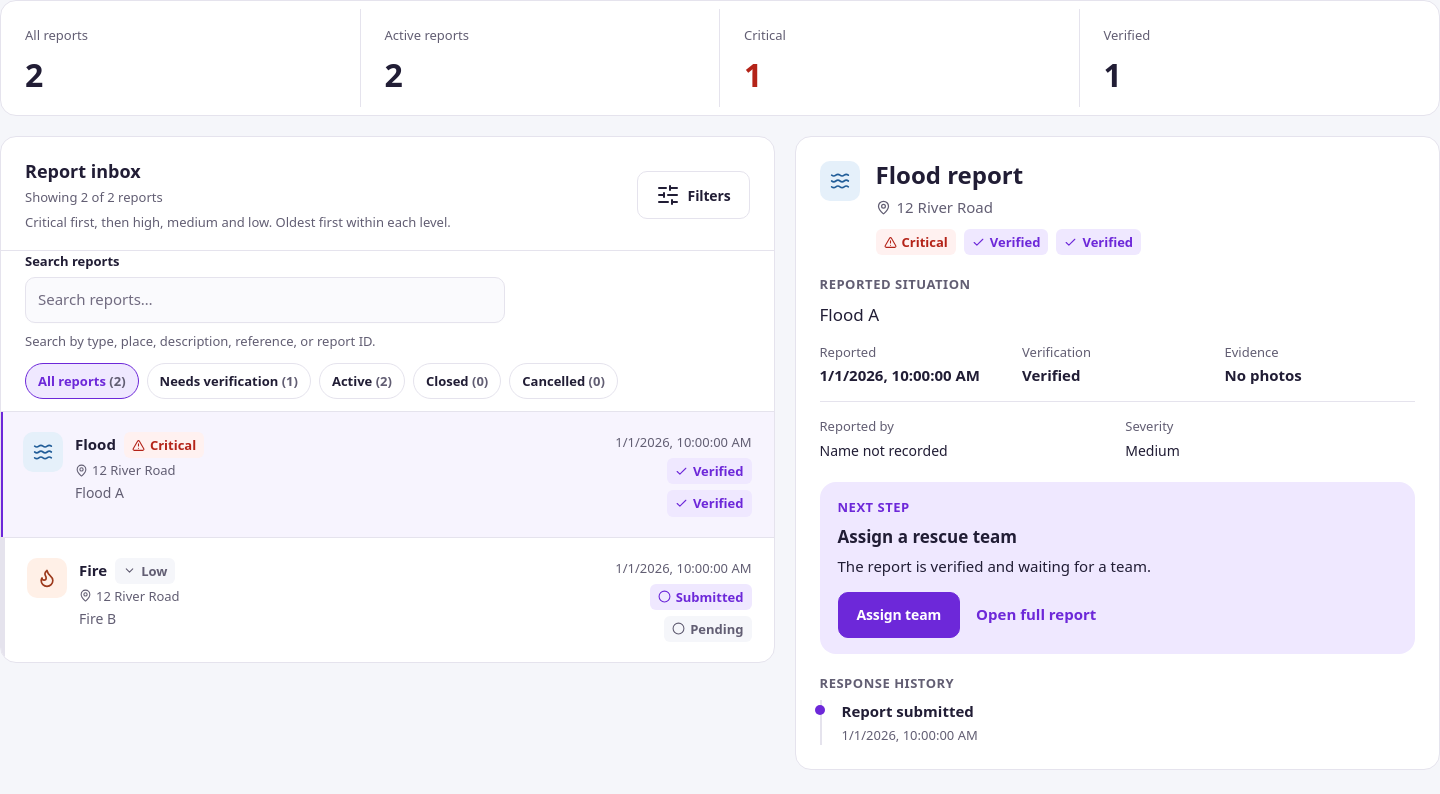
Test: ReportQueue › keeps the selected report visible with a note when filters hide it
The width and height of the screenshot is (1440, 794).
Click the button "Flood A": point(43, 452) [1,412,774,536]
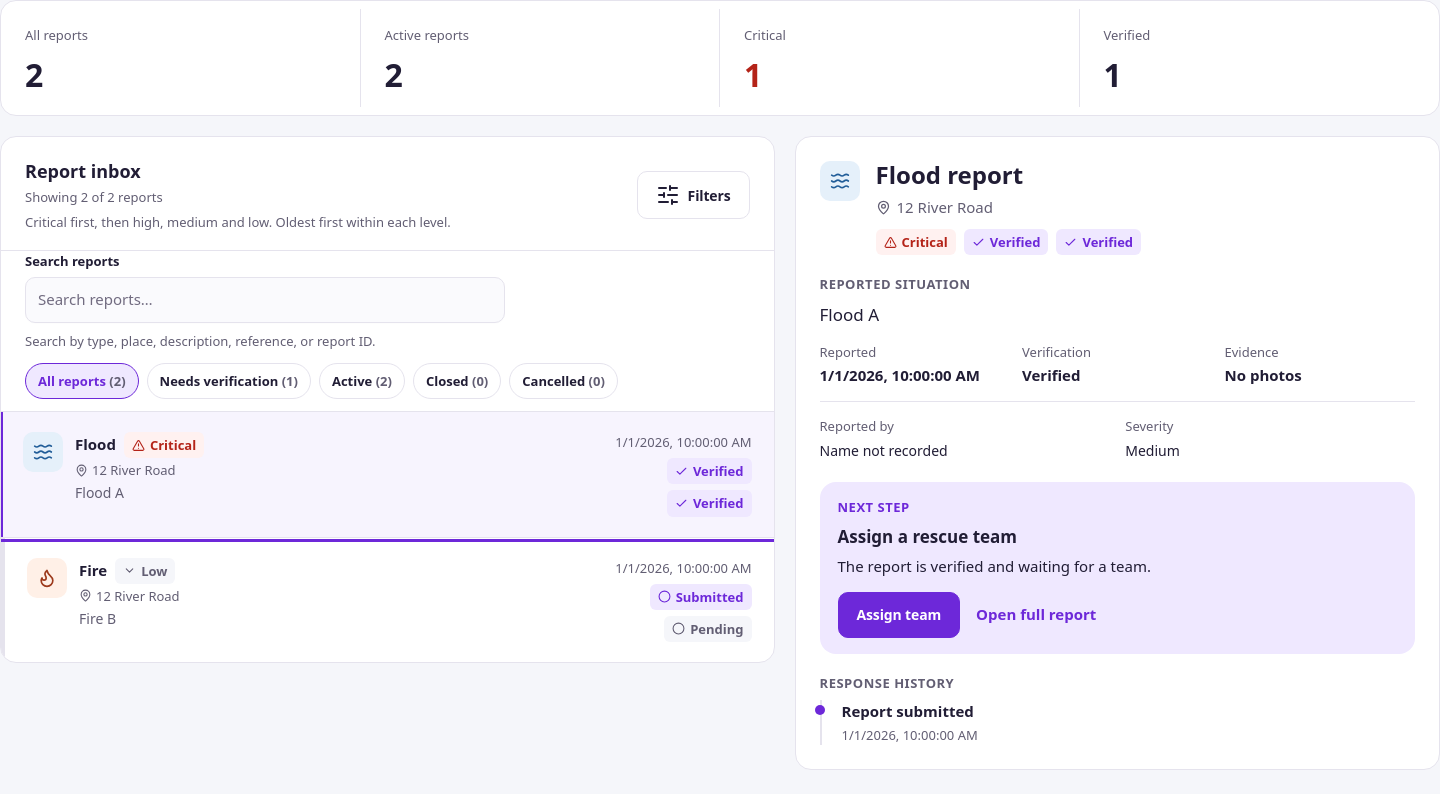
Click the button "Filters": point(693, 195) [637,171,750,219]
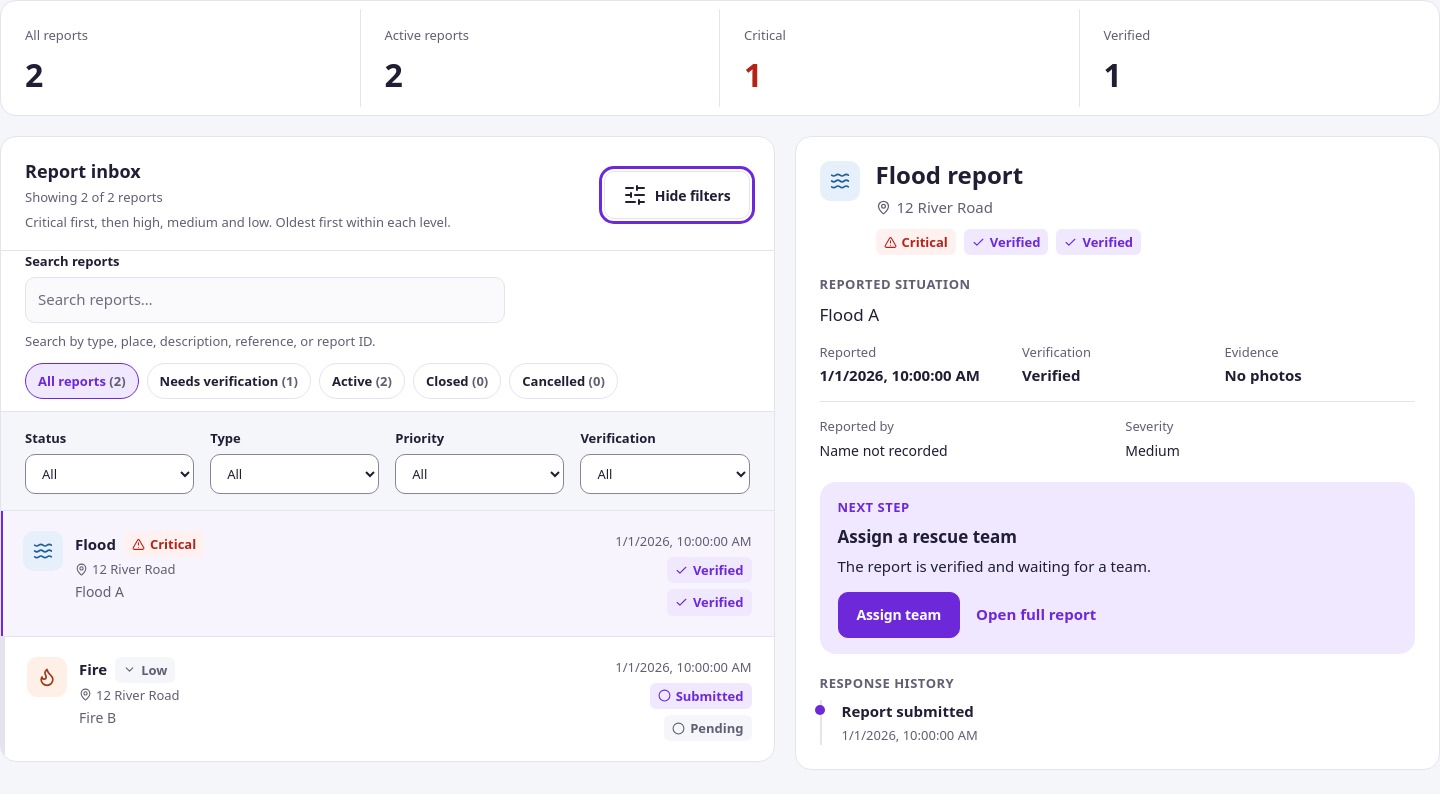
Select "Fire" in the dropdown labelled "Type": point(295, 474) [210,454,379,494]
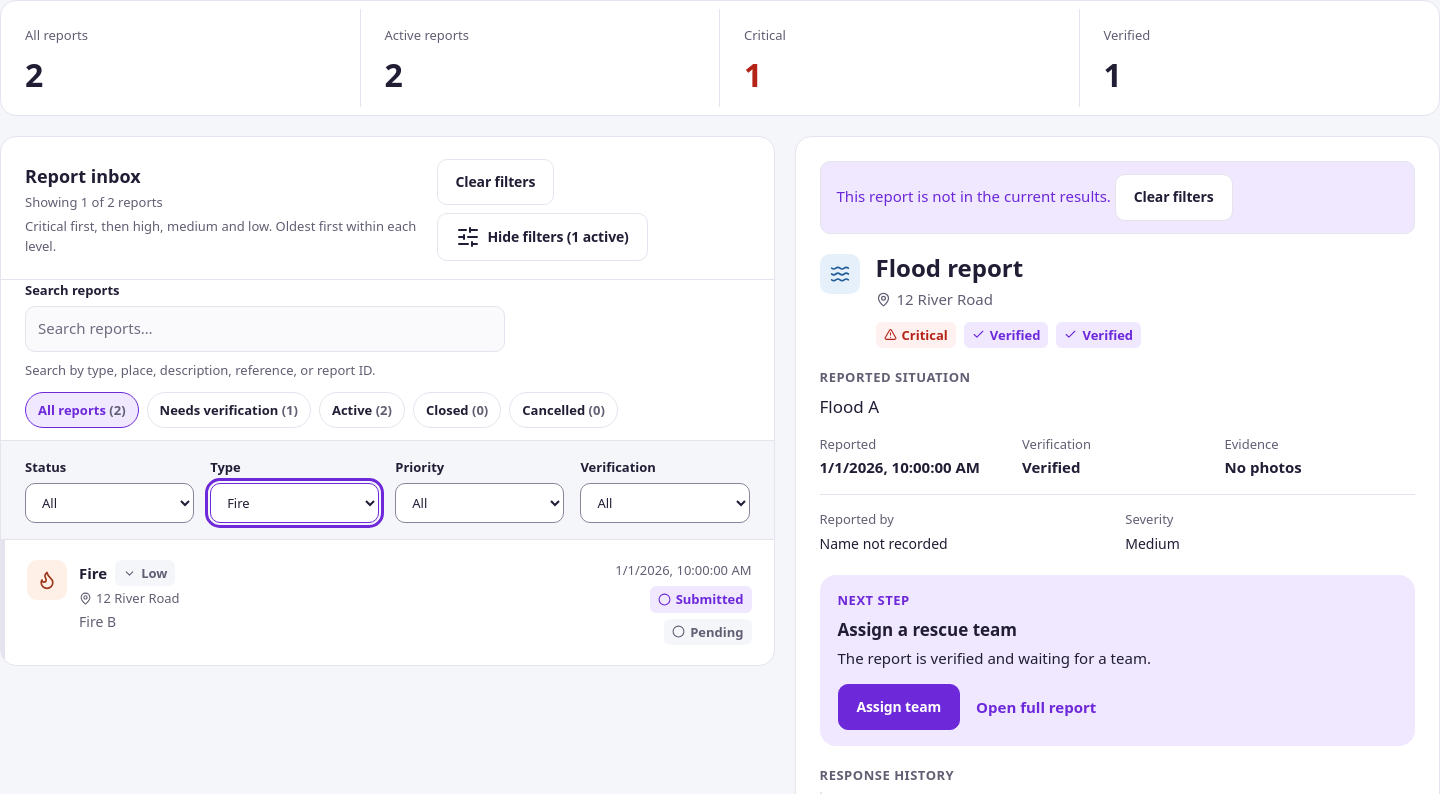
Check: the heading "Flood report" is shown, box [876,250,1023,284]
Check: the text "This report is not in the current results. Clear filters" is shown, box [820,161,1415,234]
